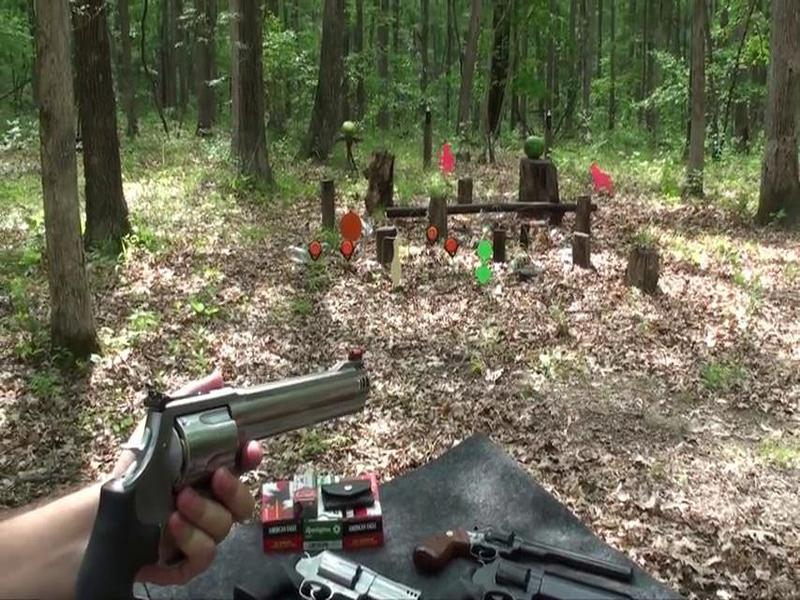Revolver: (85, 352, 396, 552)
